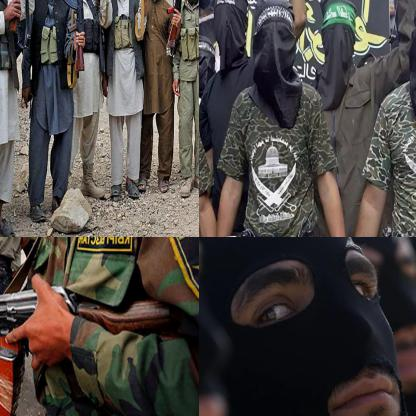rifle: (0, 288, 78, 415), (59, 0, 88, 72), (4, 0, 43, 33), (163, 0, 192, 42)
